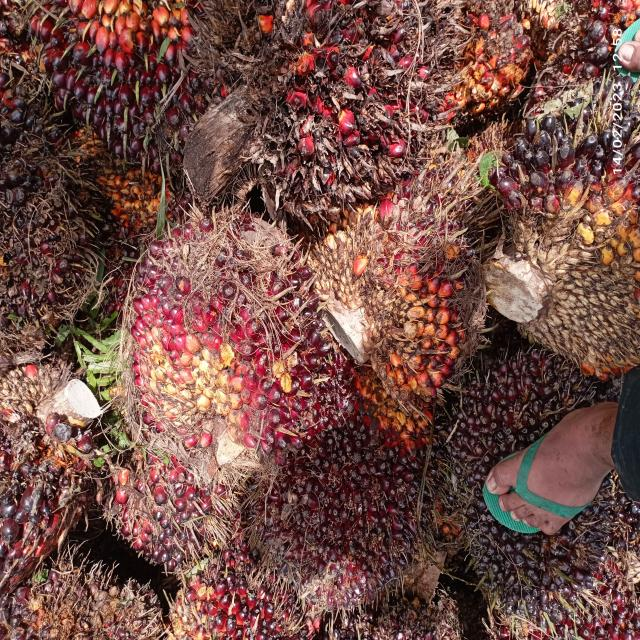fraksi 00: (500, 54, 640, 372), (275, 382, 442, 608)
fraksi 3: (110, 172, 354, 485), (308, 178, 490, 442)
fraksi 4: (254, 0, 426, 228)
